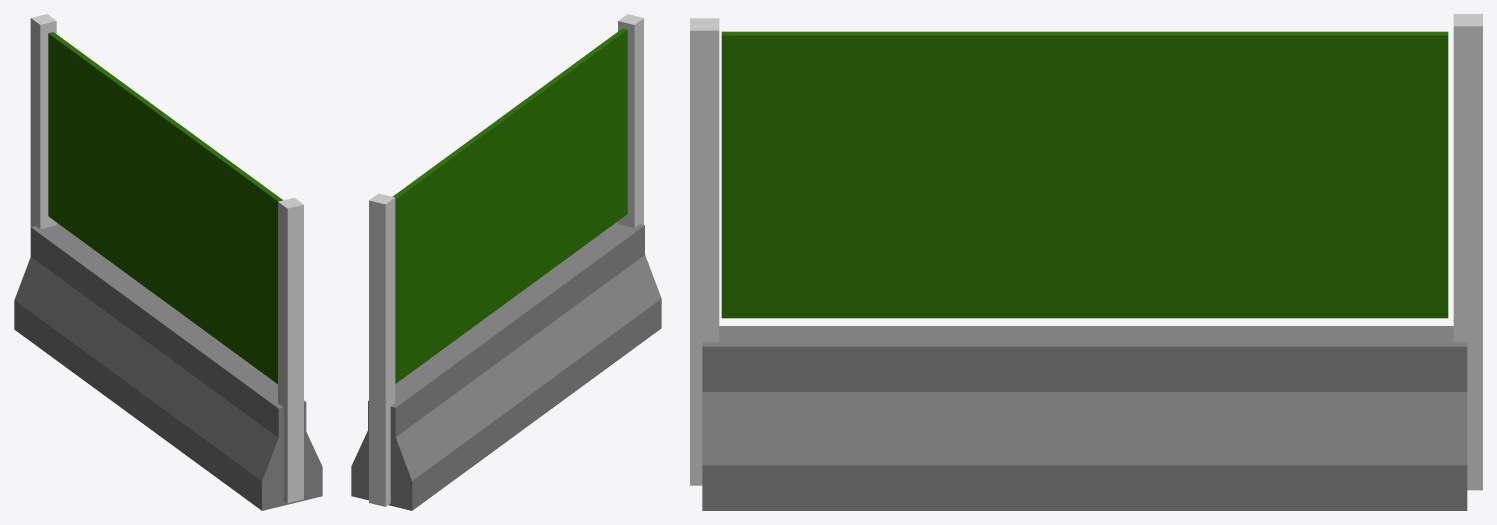
The model's file is barrera.fbx.
3 renders of one model, left to right at view 1: azimuth 30°, elevation 25°; view 2: azimuth 150°, elevation 25°; view 3: azimuth 270°, elevation 25°, orthographic. The views are drawn at different scales.
Visible parts, largest first — view 1: Cube.003, Cube, Cube.001, Cube.002; view 2: Cube.003, Cube, Cube.002, Cube.001; view 3: Cube.003, Cube, Cube.002, Cube.001.
Part boxes in pixels (x1,y1,x2,y2): Cube.003: (48,32,282,383); Cube: (14,223,322,510); Cube.001: (278,197,303,503); Cube.002: (30,14,56,229); Cube.003: (392,28,627,383); Cube: (351,221,661,510); Cube.002: (369,193,395,506); Cube.001: (618,14,643,227); Cube.003: (721,31,1448,318); Cube: (702,326,1467,510); Cube.002: (1453,14,1482,490); Cube.001: (690,18,719,485).
Bounding box in the file's own units: 128 × 615 × 946.
